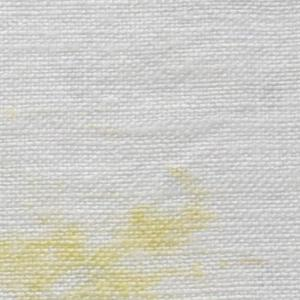Stain: (1, 162, 224, 300)
